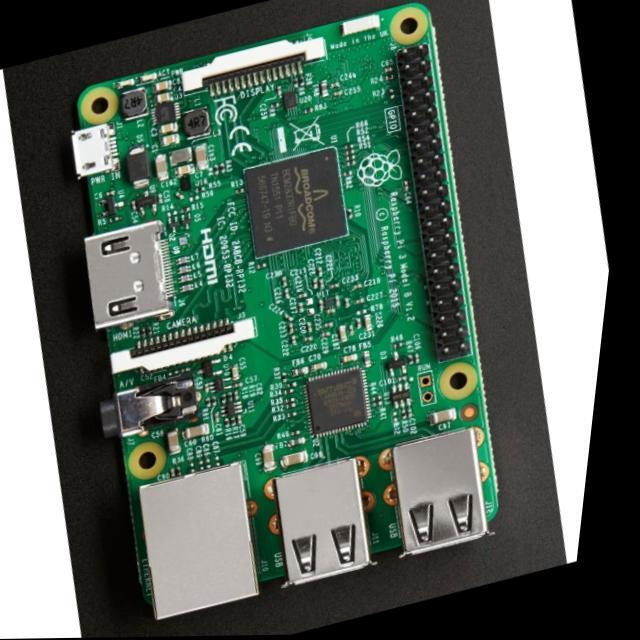Raspberry-Pi-3-B: (72, 4, 498, 621)
